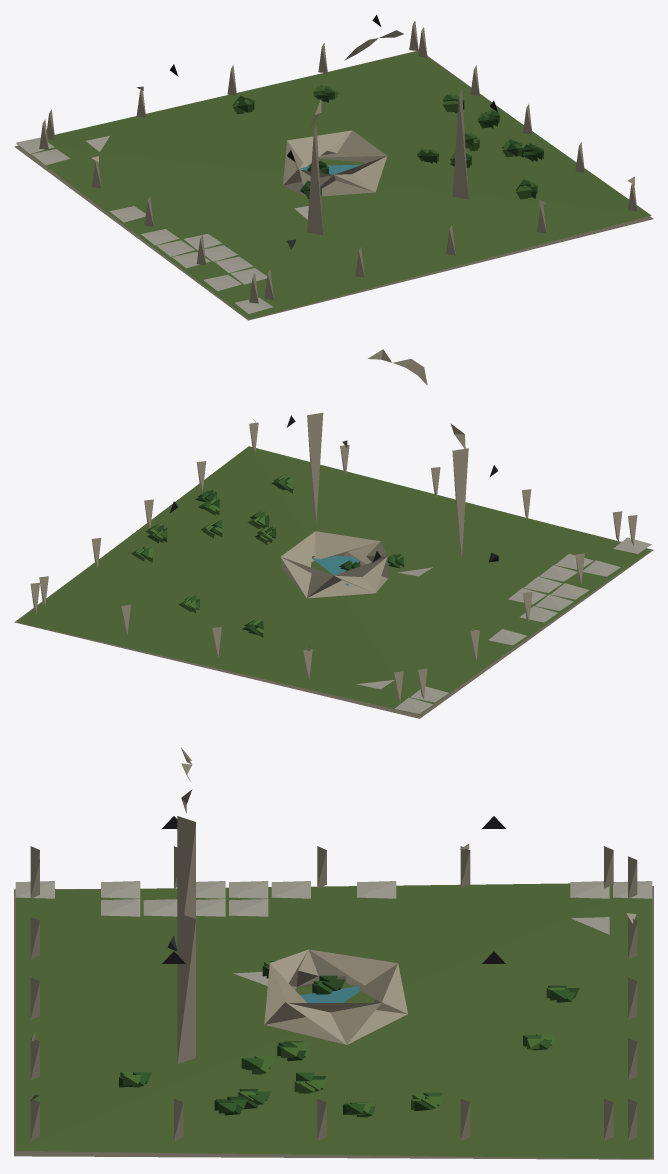
File: deco_garden.glb
3 renders of one model, top to bottom at view 1: azimuth 30°, elevation 25°; view 2: azimuth 150°, elevation 25°; view 3: azimuth 270°, elevation 25°, orthographic. The views are drawn at different scales.
Size of the model in its own units: 1.84 by 0.8429 by 1.84.
